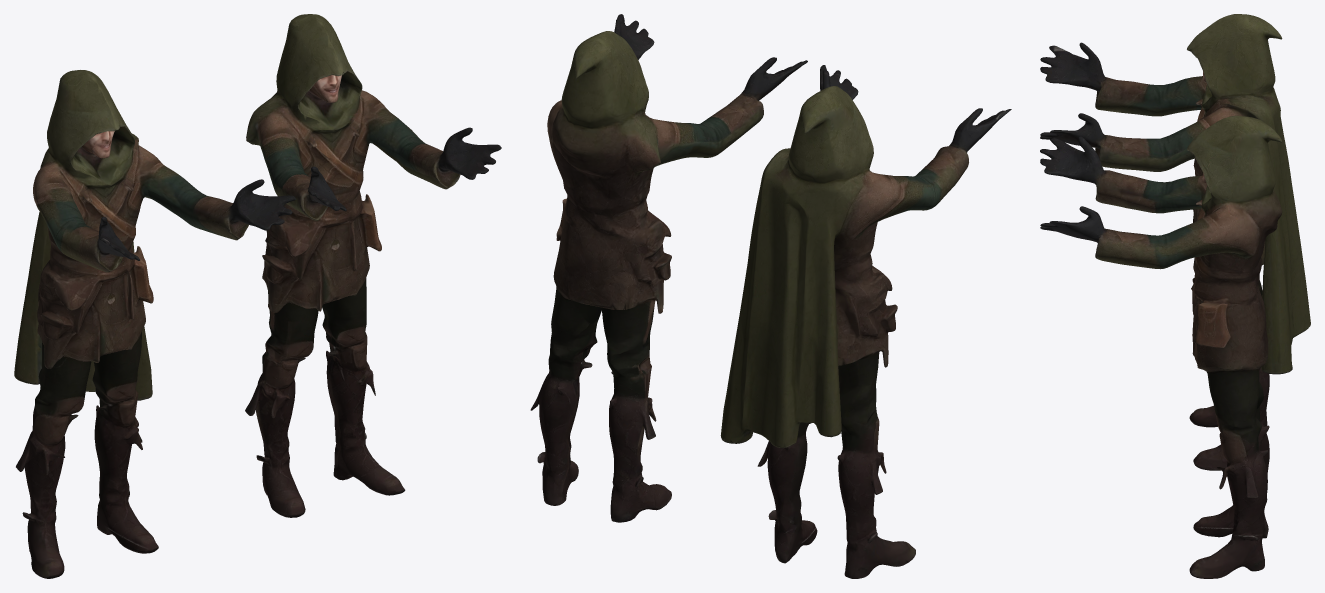
The model's file is ranger_idle.glb.
3 views of the same model, side by side, from view 1: azimuth 30°, elevation 25°; view 2: azimuth 150°, elevation 25°; view 3: azimuth 270°, elevation 25° (orthographic). The views are drawn at different scales.
Size of the model in its own units: 1.65 by 1.9 by 1.07.
Materials: 1 (1 with a texture image).
